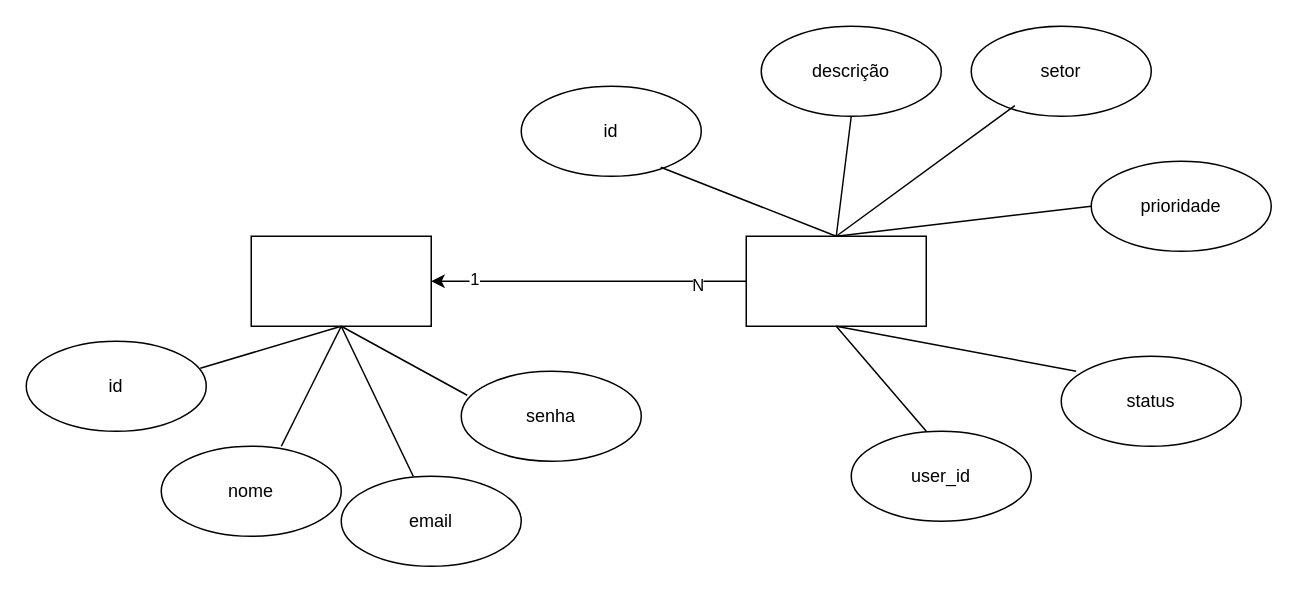
The diagram is 1298 pixels wide and 593 high, and some of its shapes have lost their labels. The centre of each missing label's shape, as x and y in pixels:
"tarefa" goes at [835,280].
"usuario" goes at [340,280].
